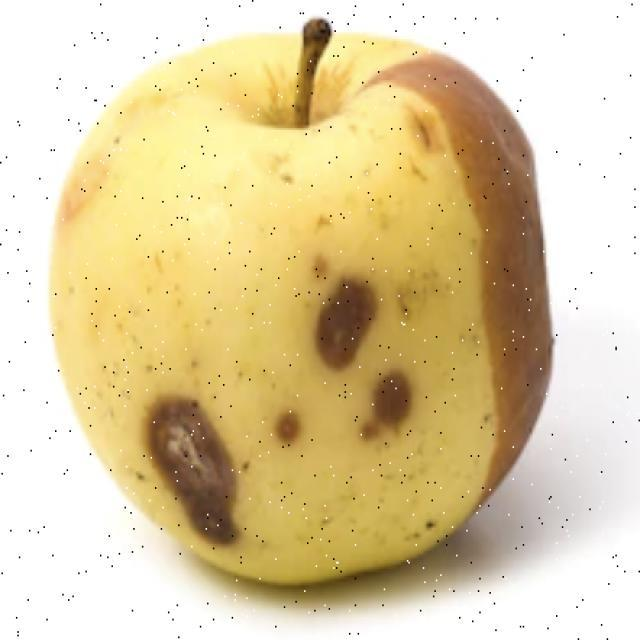Rotten: (68, 46, 552, 562)
